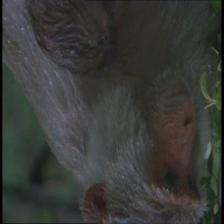monkey: (79, 48, 217, 223)
